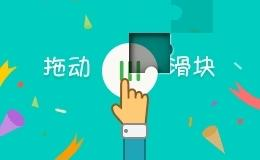target: (107, 12, 150, 52)
